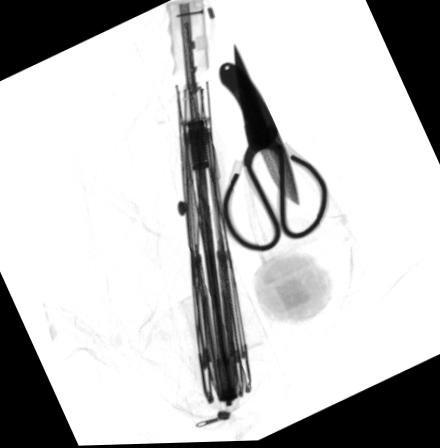Knife: (218, 64, 299, 208)
Scissors: (221, 45, 330, 253)
